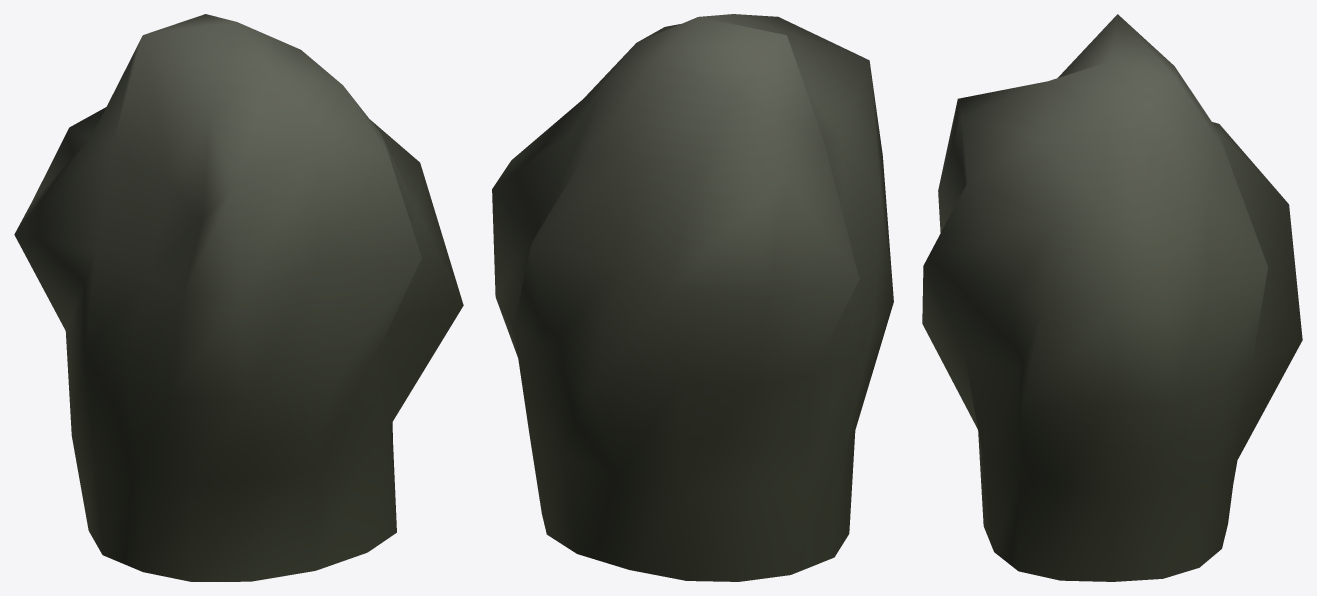
The model's file is WE02_Brush3.fbx.
3 views of the same model, side by side, from view 1: azimuth 30°, elevation 25°; view 2: azimuth 150°, elevation 25°; view 3: azimuth 270°, elevation 25° (orthographic). The views are drawn at different scales.
Visible parts, largest first — view 1: WE02_Brush3; view 2: WE02_Brush3; view 3: WE02_Brush3.
Part boxes in pixels (x1,y1,x2,y2): WE02_Brush3: (14,14,463,581); WE02_Brush3: (492,14,893,581); WE02_Brush3: (922,14,1302,581).
Size of the model in its own units: 4.61 by 5.96 by 4.4.
